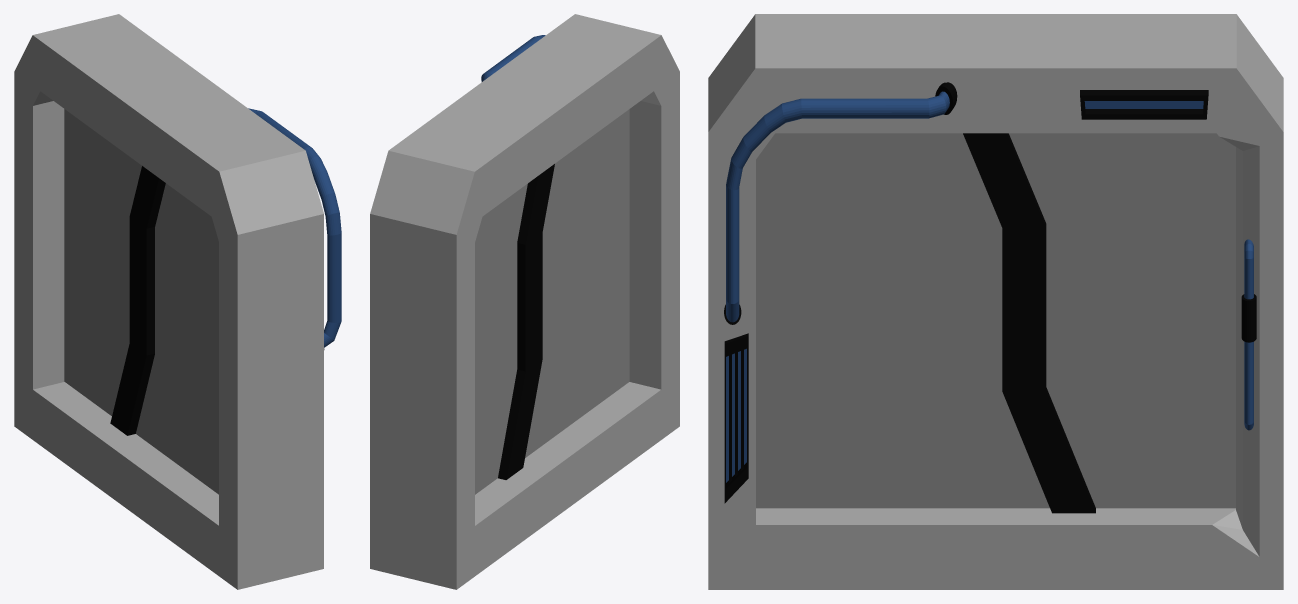
File: sci_fi_doors_02.fbx
The picture shows the model from 3 angles, left to right: view 1: azimuth 30°, elevation 25°; view 2: azimuth 150°, elevation 25°; view 3: azimuth 270°, elevation 25°; orthographic projection. The views are drawn at different scales.
Parts seen in each view (by area): view 1: Door Frame.001, LeftAngle.001, RightAngle.001; view 2: Door Frame.001, LeftAngle.001, RightAngle.001; view 3: Door Frame.001, LeftAngle.001, RightAngle.001.
Part boxes in pixels (x1=…): Door Frame.001: x1=14, y1=14, x2=341, y2=589; LeftAngle.001: x1=110, y1=166, x2=218, y2=494; RightAngle.001: x1=64, y1=109, x2=141, y2=415; Door Frame.001: x1=370, y1=14, x2=679, y2=589; LeftAngle.001: x1=498, y1=109, x2=629, y2=479; RightAngle.001: x1=475, y1=183, x2=527, y2=494; Door Frame.001: x1=708, y1=14, x2=1283, y2=589; LeftAngle.001: x1=756, y1=133, x2=1095, y2=513; RightAngle.001: x1=1009, y1=133, x2=1235, y2=508.
Size of the model in its own units: 117 by 400 by 400.
